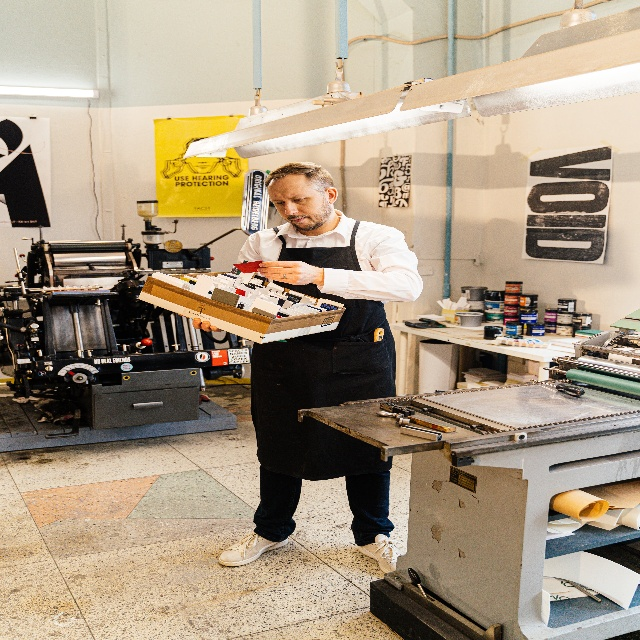Sin_guantes: (257, 259, 315, 286), (192, 318, 219, 332)
